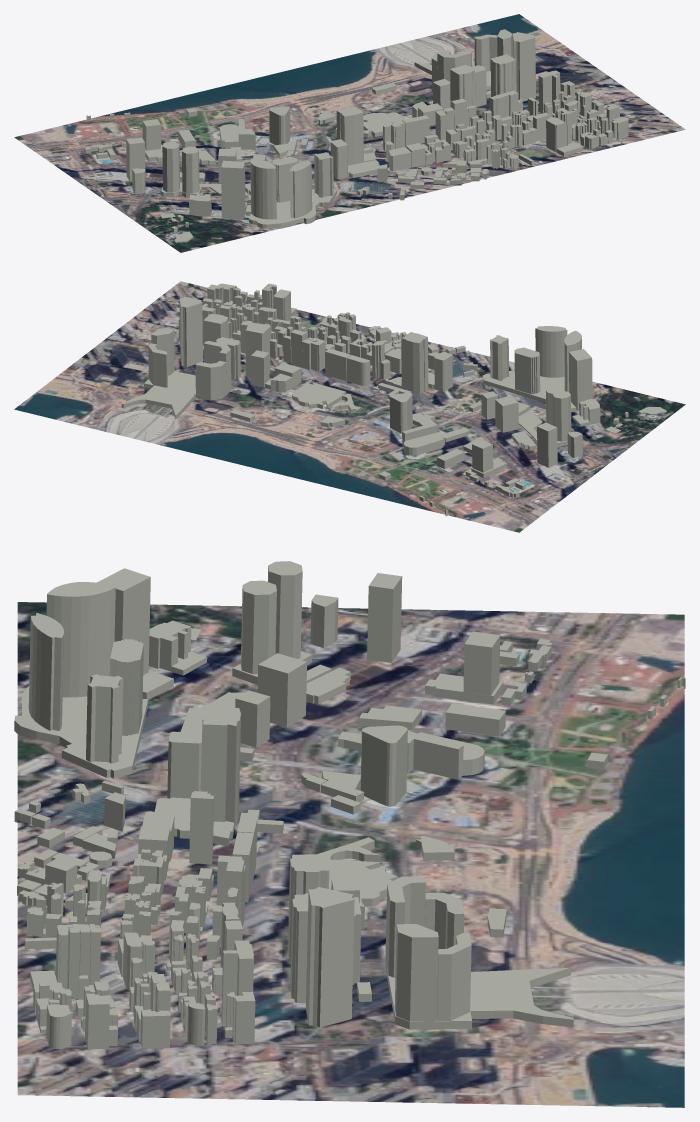
Rendered from MAP.fbx.
The picture shows the model from 3 angles, top to bottom: view 1: azimuth 30°, elevation 25°; view 2: azimuth 150°, elevation 25°; view 3: azimuth 270°, elevation 25°; orthographic projection. The views are drawn at different scales.
Parts seen in each view (by area): view 1: EXPORT_GOOGLE_SAT_WM, Areas:building; view 2: EXPORT_GOOGLE_SAT_WM, Areas:building; view 3: EXPORT_GOOGLE_SAT_WM, Areas:building.
Boxes of the visible parts, x1,y1,x2,y2 form: EXPORT_GOOGLE_SAT_WM: (14,14,685,252); Areas:building: (84,29,628,242); EXPORT_GOOGLE_SAT_WM: (14,281,685,532); Areas:building: (121,283,666,516); EXPORT_GOOGLE_SAT_WM: (17,602,684,1107); Areas:building: (14,561,685,1049).
Bounding box in the file's own units: 160518 × 19630 × 92367.
